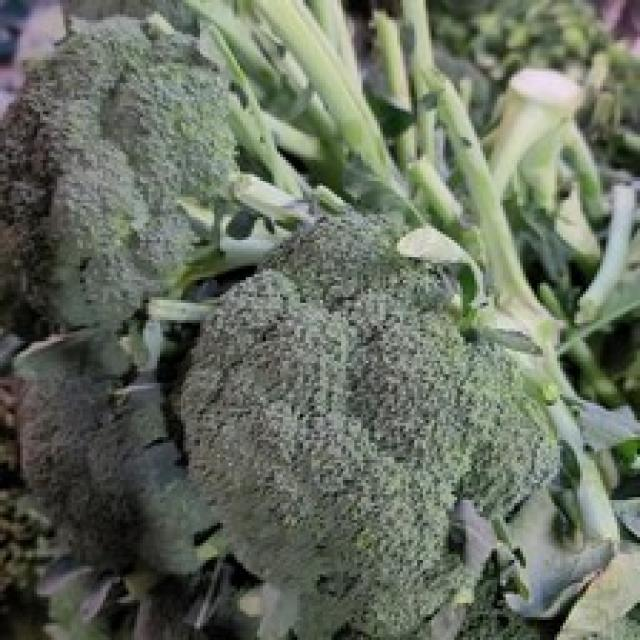Broccoli: (179, 214, 558, 640), (179, 215, 558, 640), (0, 18, 234, 328), (0, 18, 234, 328), (19, 331, 224, 574), (19, 331, 215, 574)
